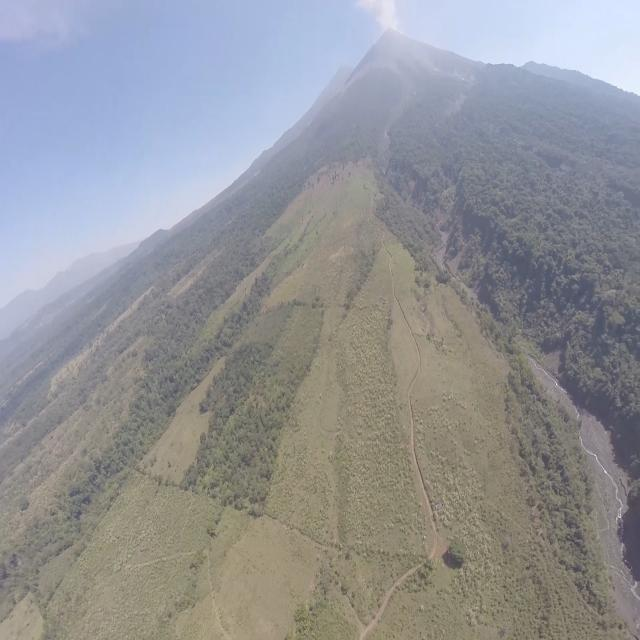Plume: (354, 1, 402, 27)
Summit: (372, 26, 412, 54)
